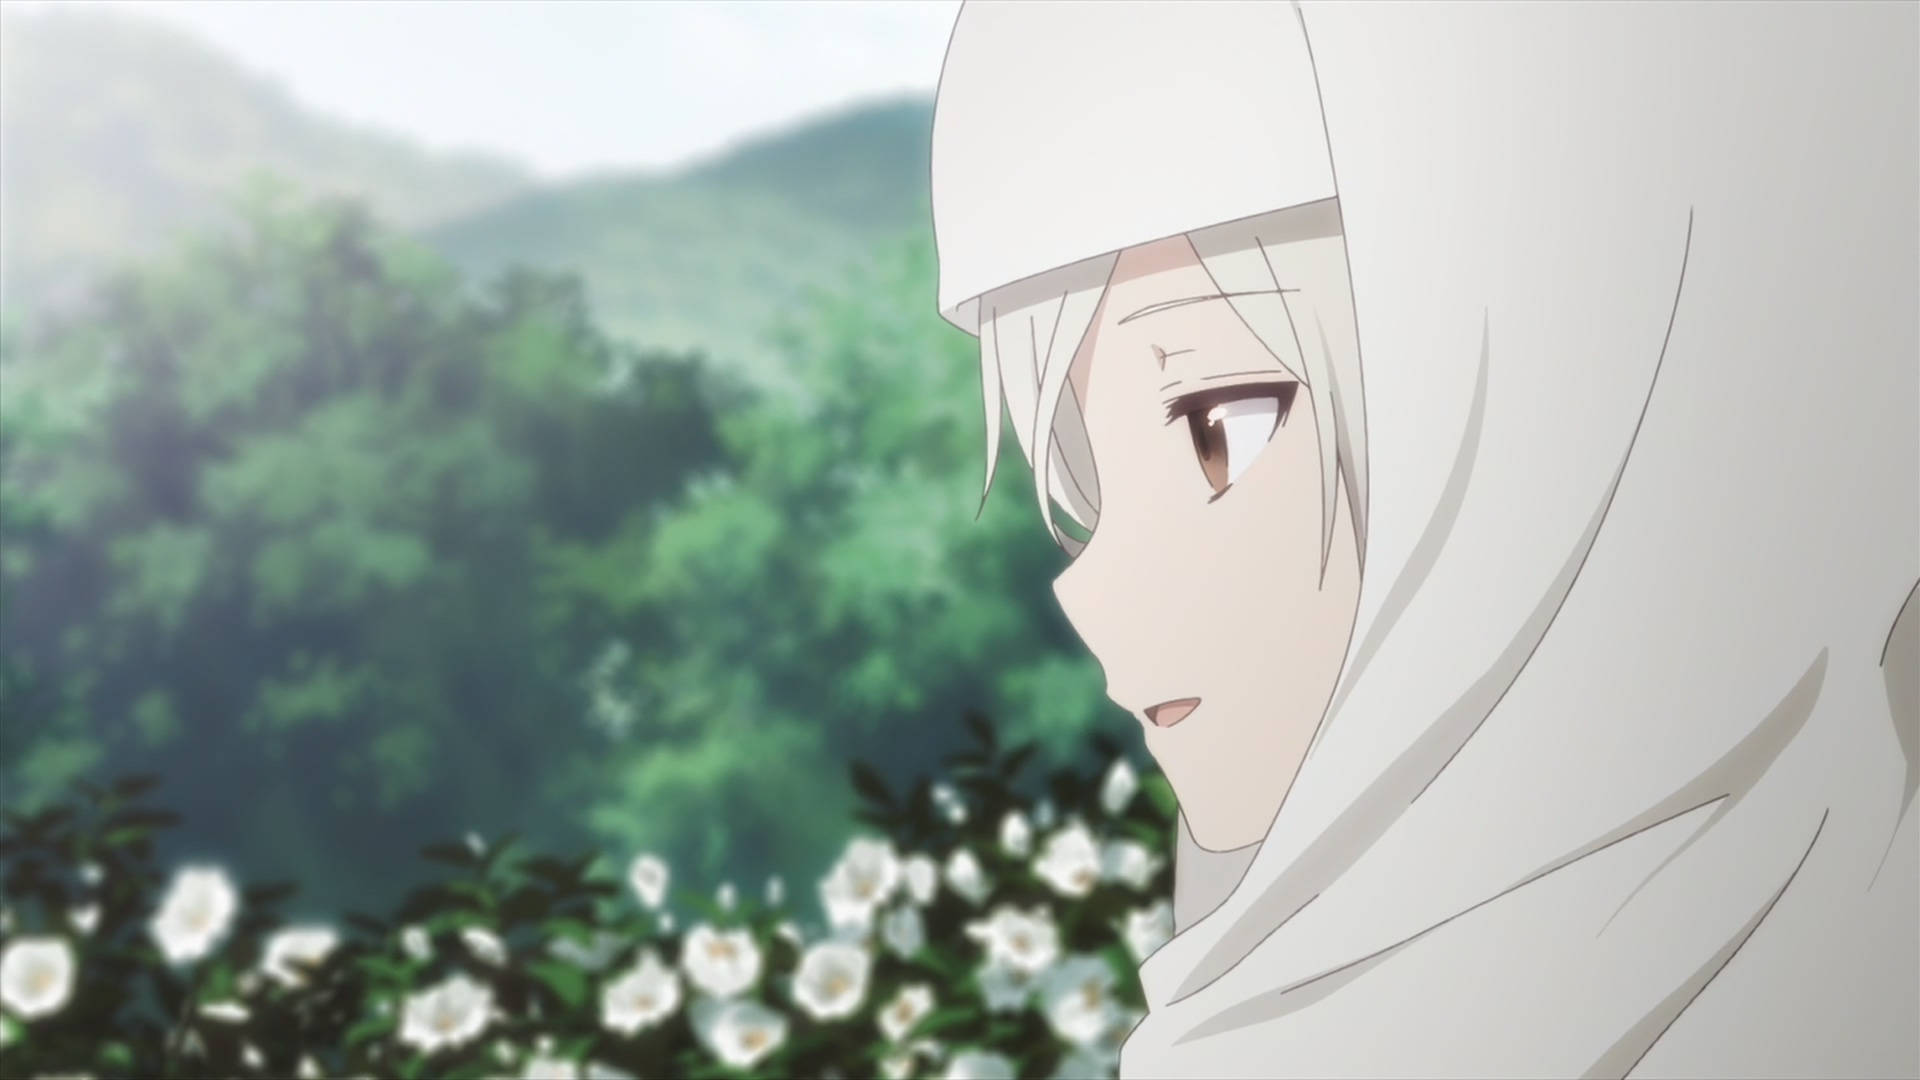八百比丘尼: (928, 1, 1920, 1080)
